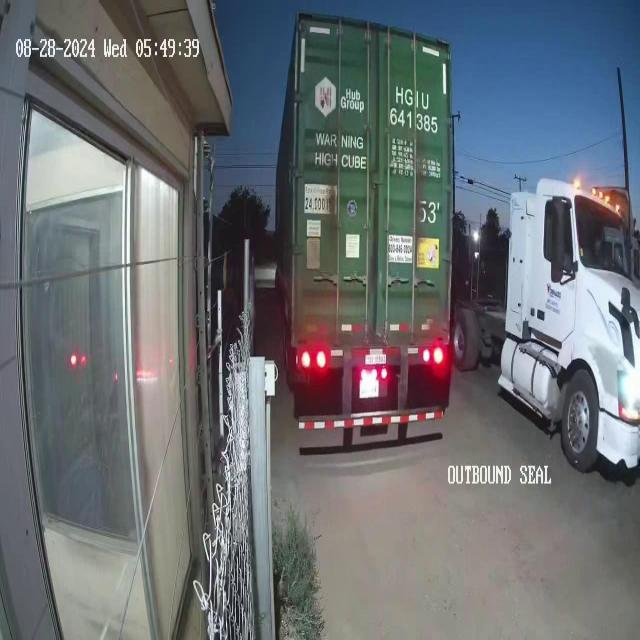TRUCK_IN: (459, 163, 640, 492)
TRUCK_OUT: (268, 12, 456, 447)
